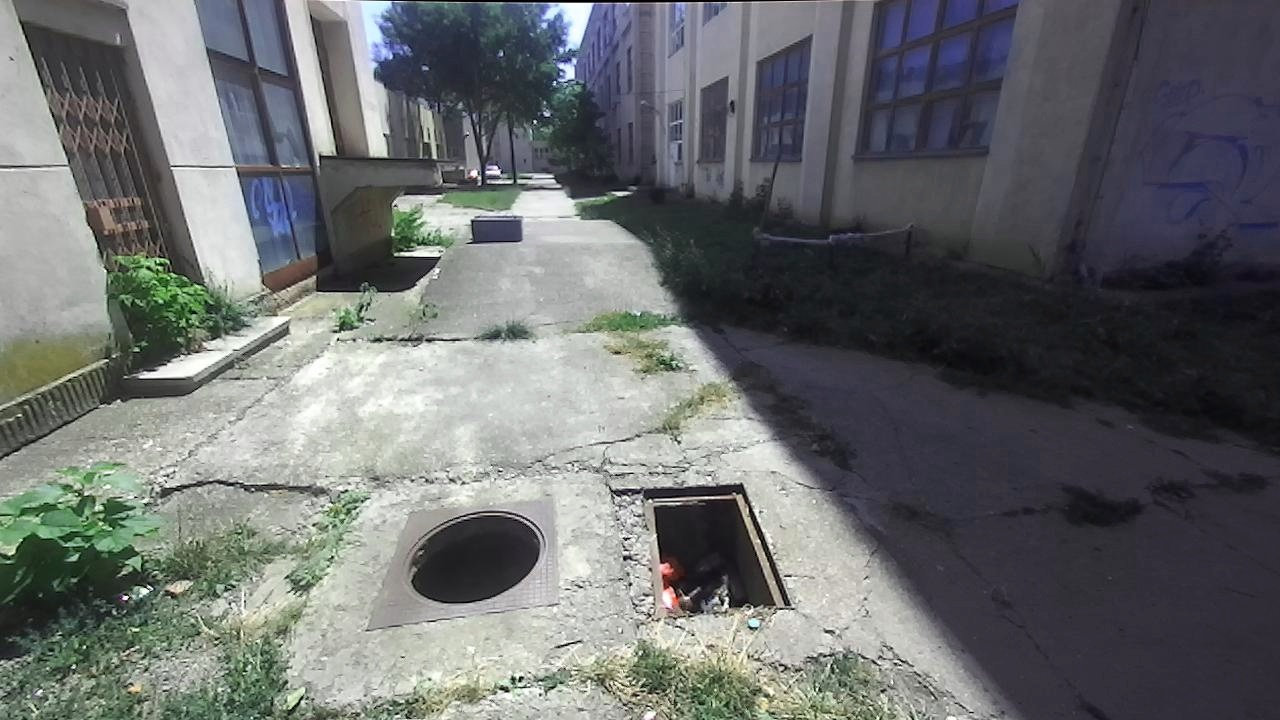drain: (635, 480, 798, 624), (396, 504, 548, 607)
